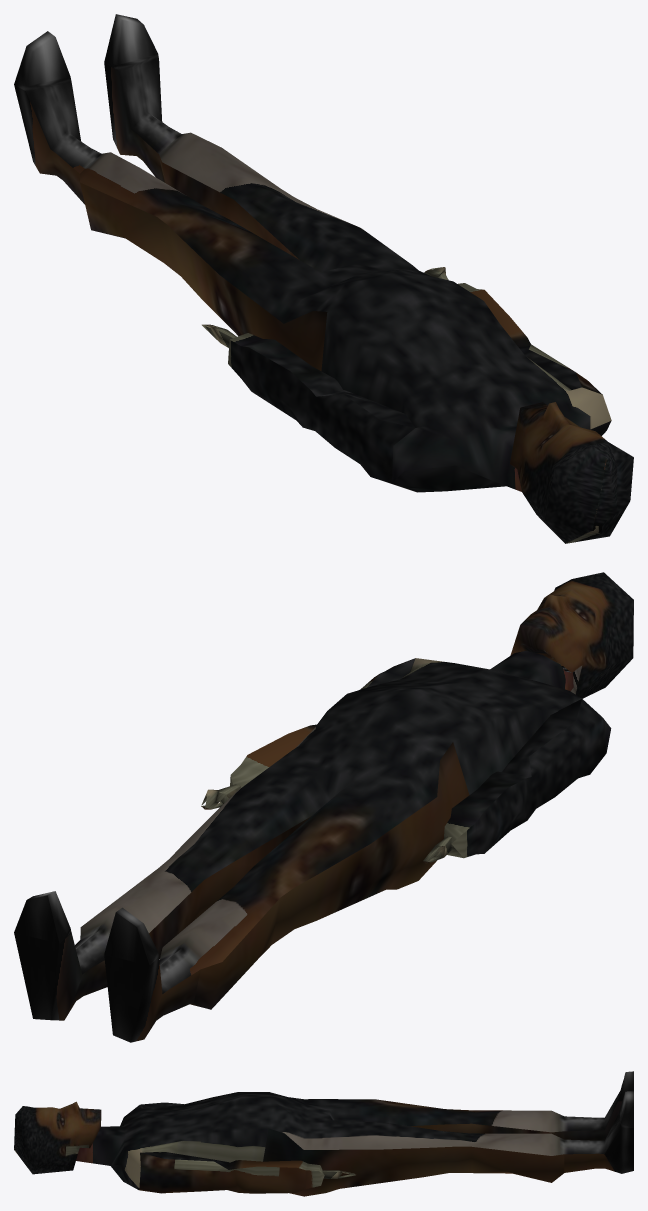
Rendered from npc_jaka_ronda_idle.obj.
3 renders of one model, top to bottom at view 1: azimuth 30°, elevation 25°; view 2: azimuth 150°, elevation 25°; view 3: azimuth 270°, elevation 25°, orthographic. The views are drawn at different scales.
Parts seen in each view (by area): view 1: npc_jaka_ronda_idle; view 2: npc_jaka_ronda_idle; view 3: npc_jaka_ronda_idle.
Boxes of the visible parts, bbox=[...] form: npc_jaka_ronda_idle: bbox=[14, 14, 633, 543]; npc_jaka_ronda_idle: bbox=[14, 572, 633, 1042]; npc_jaka_ronda_idle: bbox=[14, 1071, 633, 1196].
Bounding box in the file's own units: 0.4716 × 0.3129 × 1.75.
1 material, 1 textured.
